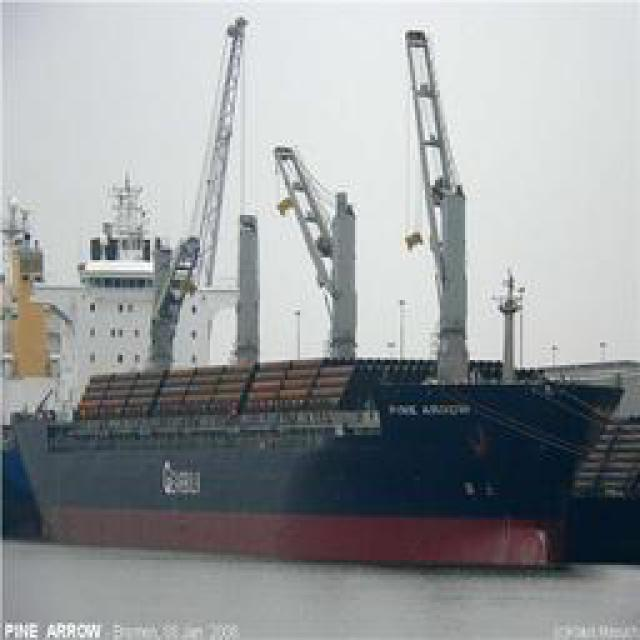Ship: (17, 11, 636, 576)
